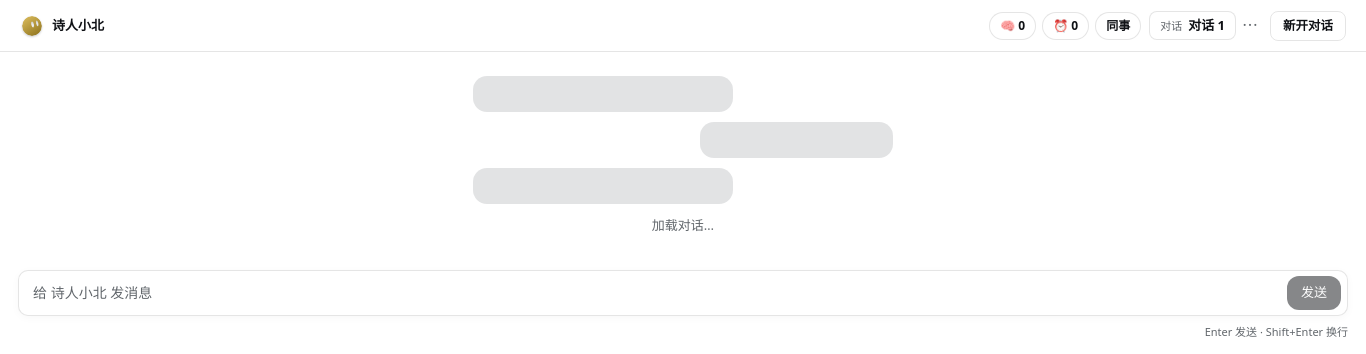
Test: Conversation › keeps the composer editable after prompt and turns send into stop
Type "你是谁?" into the text box with test id "composer-input".
click(654, 292); type("你是谁?")  # box [25,274,1283,310]
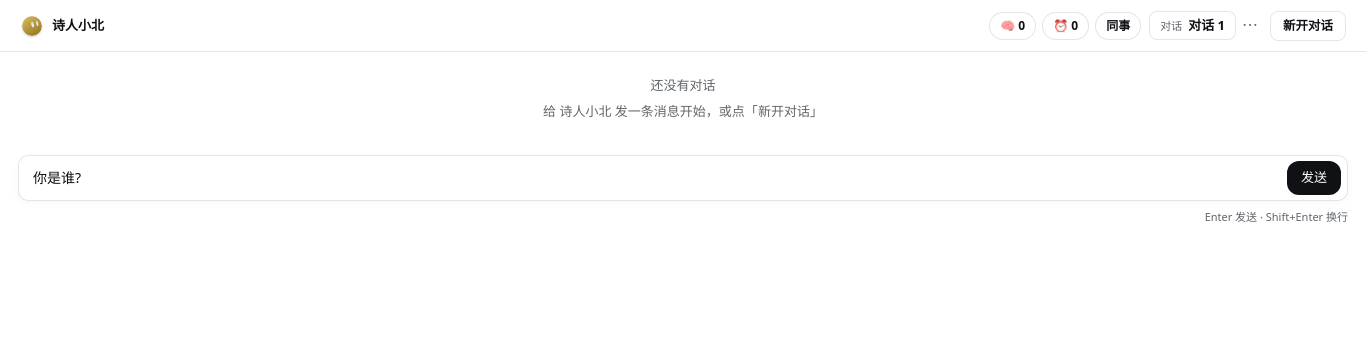
Click the button with test id "composer-send".
click(1314, 178)  # box [1287,161,1341,195]
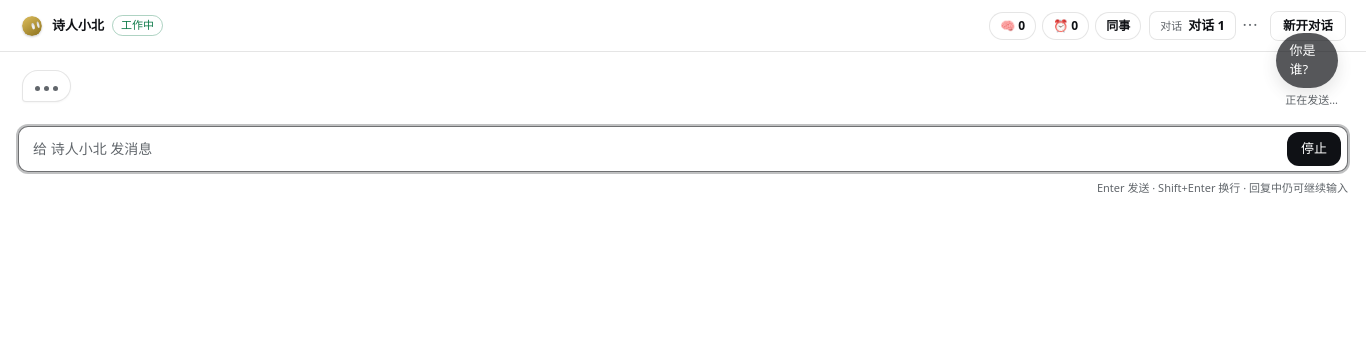
Expected: the element with test id "transcript-pending" is shown, [1265,32,1338,108]
Expected: the button with test id "composer-send" reads "停止", [1287,132,1341,166]
Expected: the text "工作中" is shown, [112,15,163,36]
